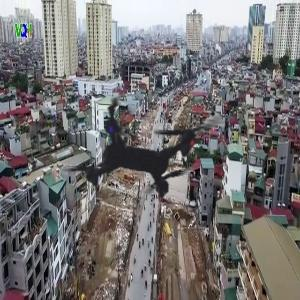drone: (19, 28, 268, 277)
